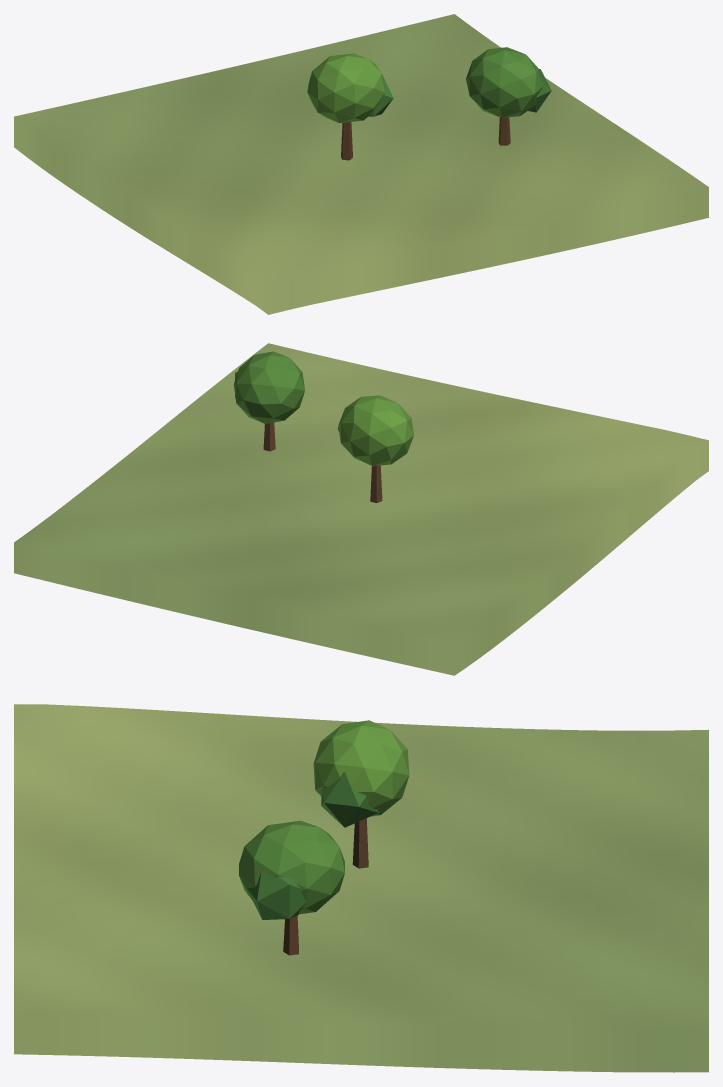
3 views of the same model, one above another, from view 1: azimuth 30°, elevation 25°; view 2: azimuth 150°, elevation 25°; view 3: azimuth 270°, elevation 25° (orthographic). The views are drawn at different scales.
Parts seen in each view (by area): view 1: terrain, scenery; view 2: terrain, scenery; view 3: terrain, scenery.
Boxes of the visible parts, box(x1,y1,x2,y2) form: terrain: box(14, 14, 708, 314); scenery: box(307, 47, 551, 160); terrain: box(14, 343, 708, 675); scenery: box(233, 351, 413, 502); terrain: box(14, 704, 708, 1072); scenery: box(239, 720, 409, 955).
Size of the model in its own units: 30 by 9.06 by 30.
